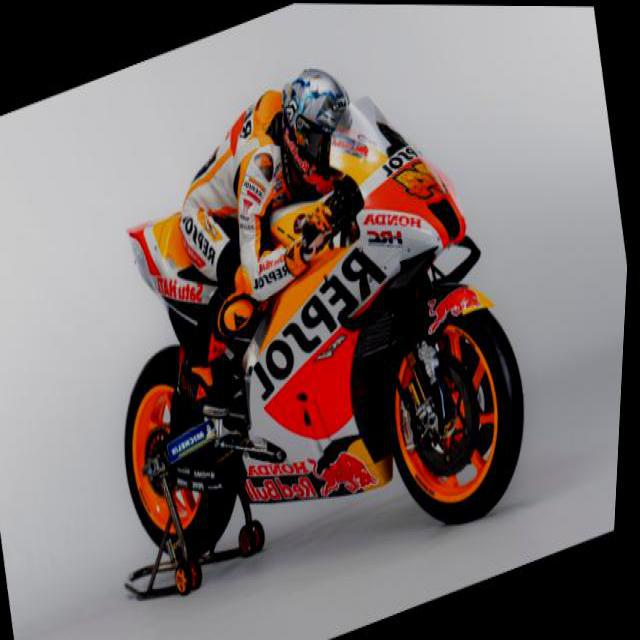HRC RCV 213: (74, 44, 563, 638)
